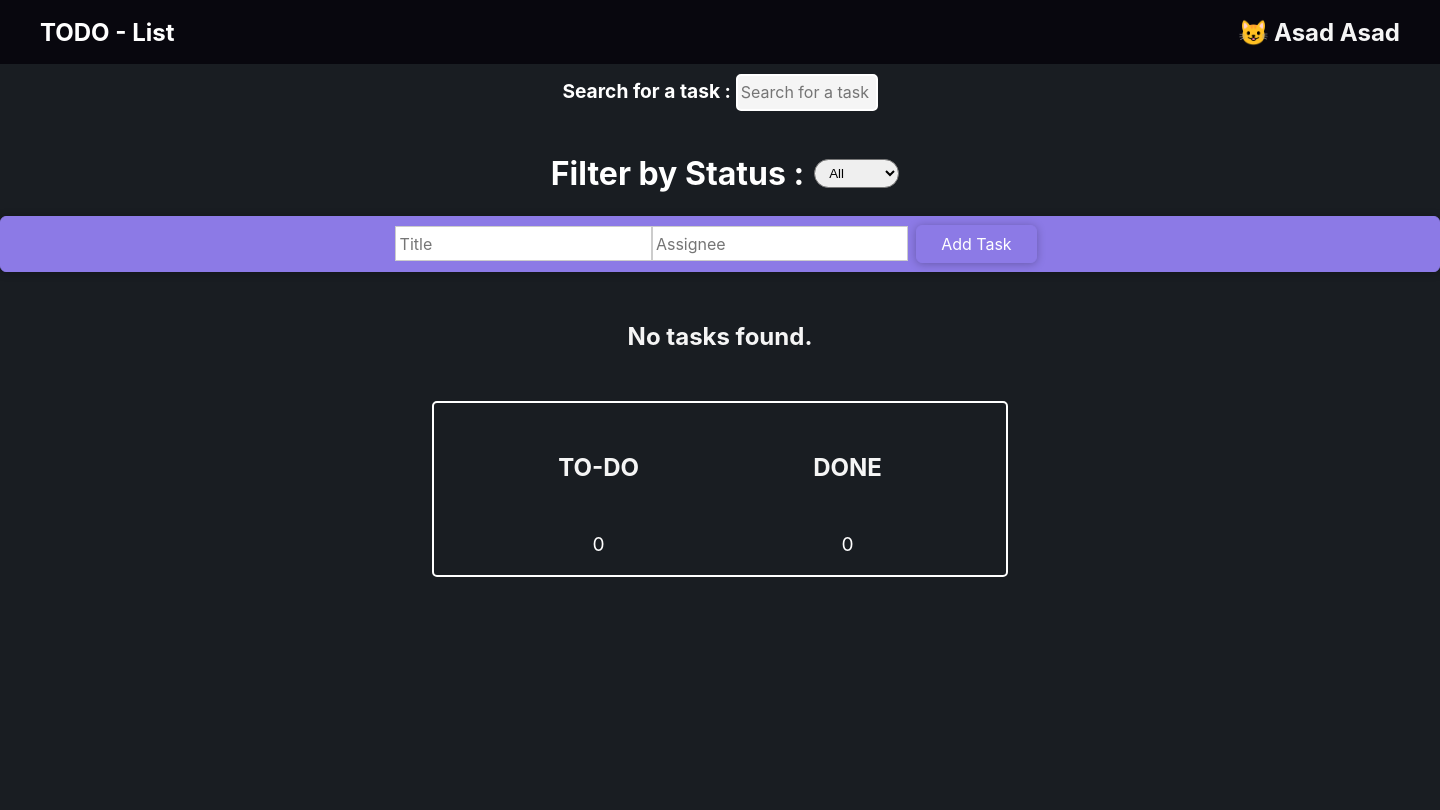
Test: Test TodoCounter
Click the button "Add Task" at (976, 244), box [916, 225, 1037, 263]
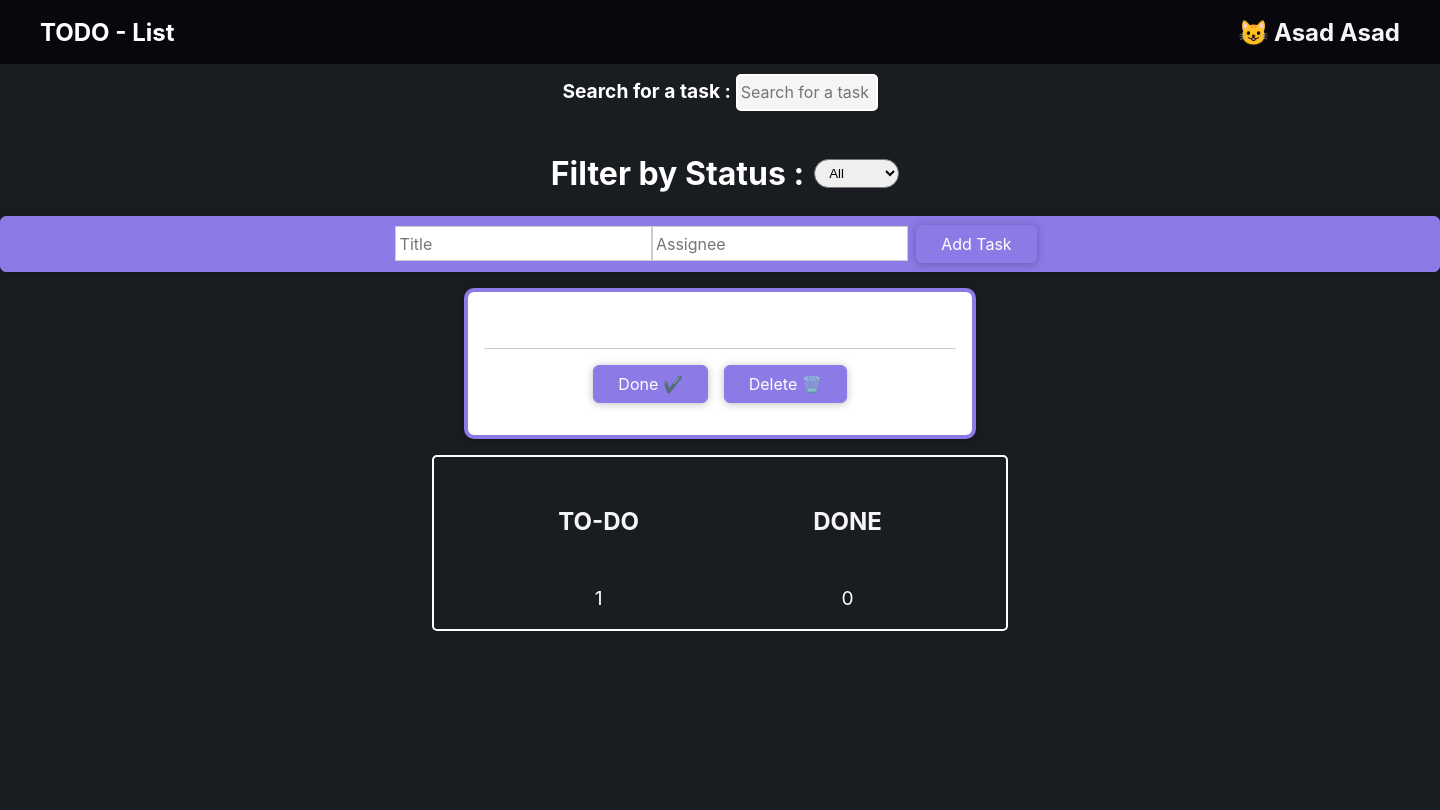
Click the button "Add Task" at (976, 244), box [916, 225, 1037, 263]
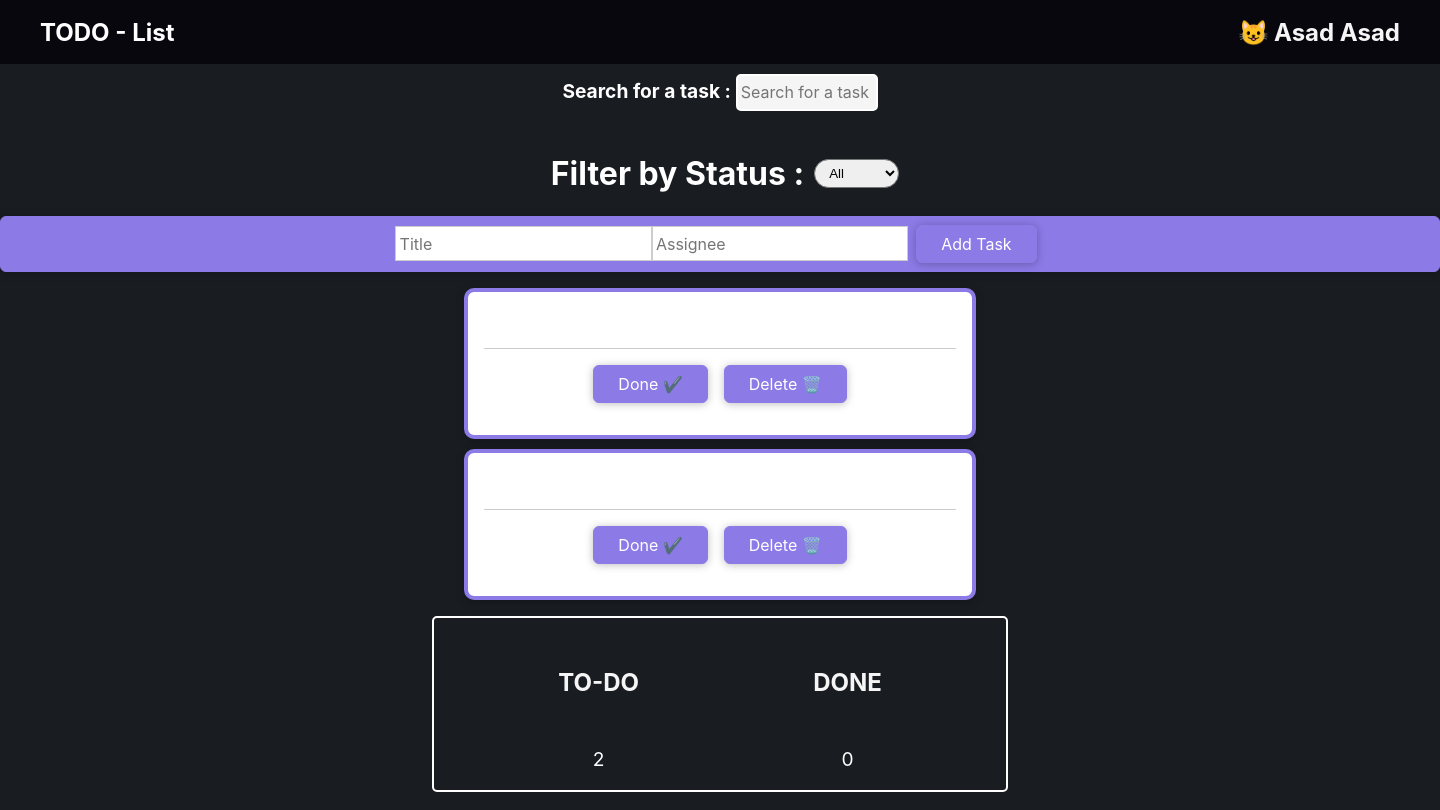
Click the button "Add Task" at (976, 244), box [916, 225, 1037, 263]
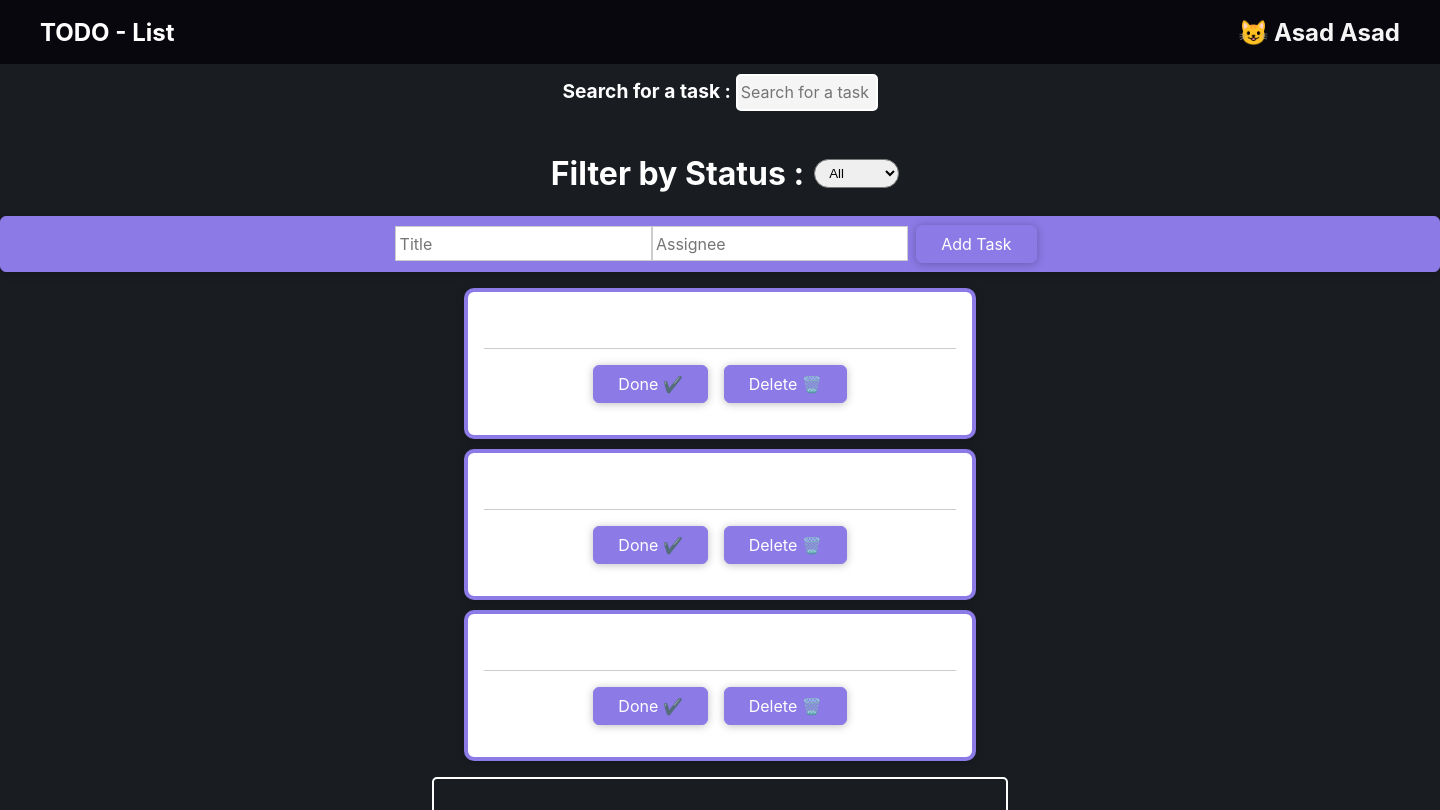
Click the button "Add Task" at (976, 244), box [916, 225, 1037, 263]
(page scrolled)
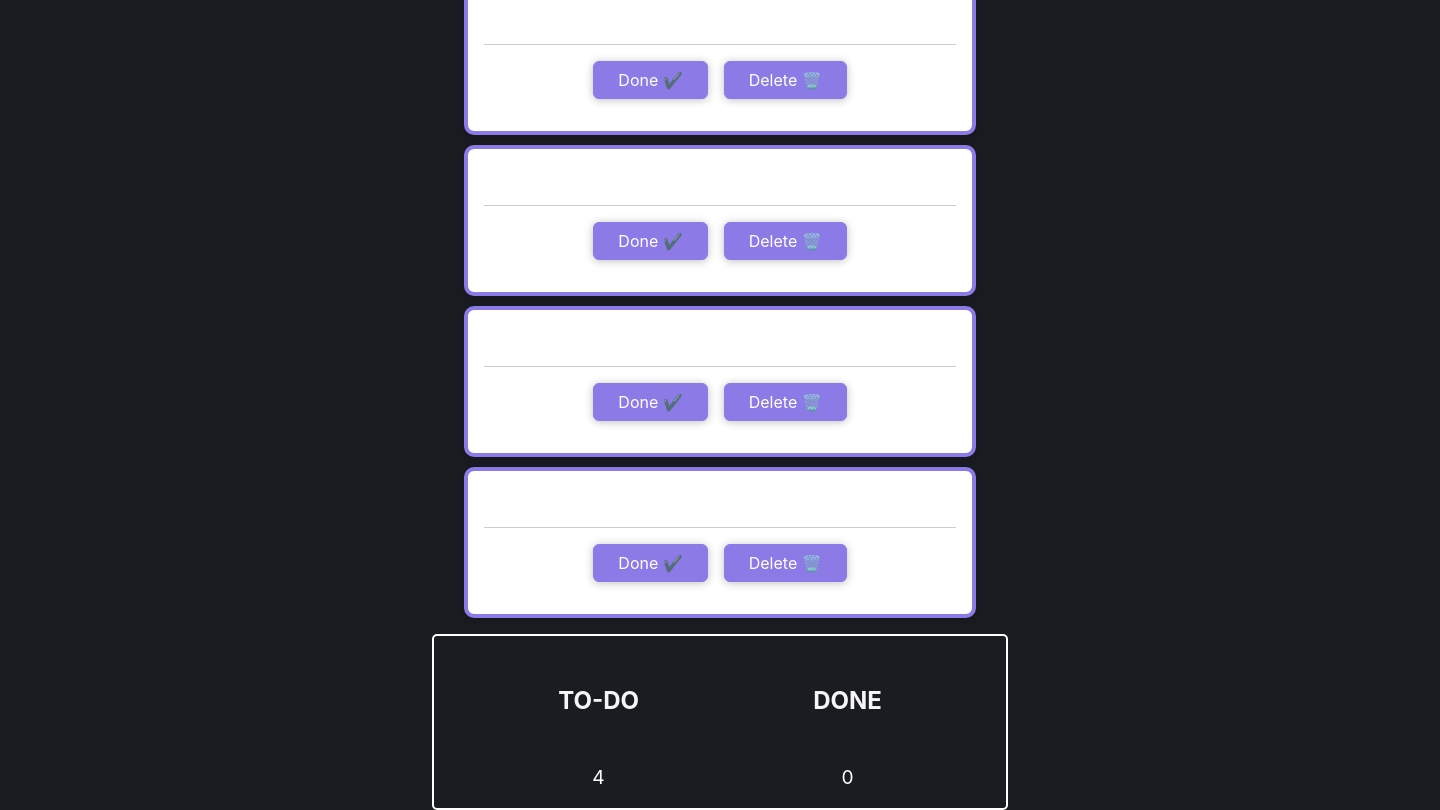
Expected: the text "4" is shown, [592, 765, 605, 789]
